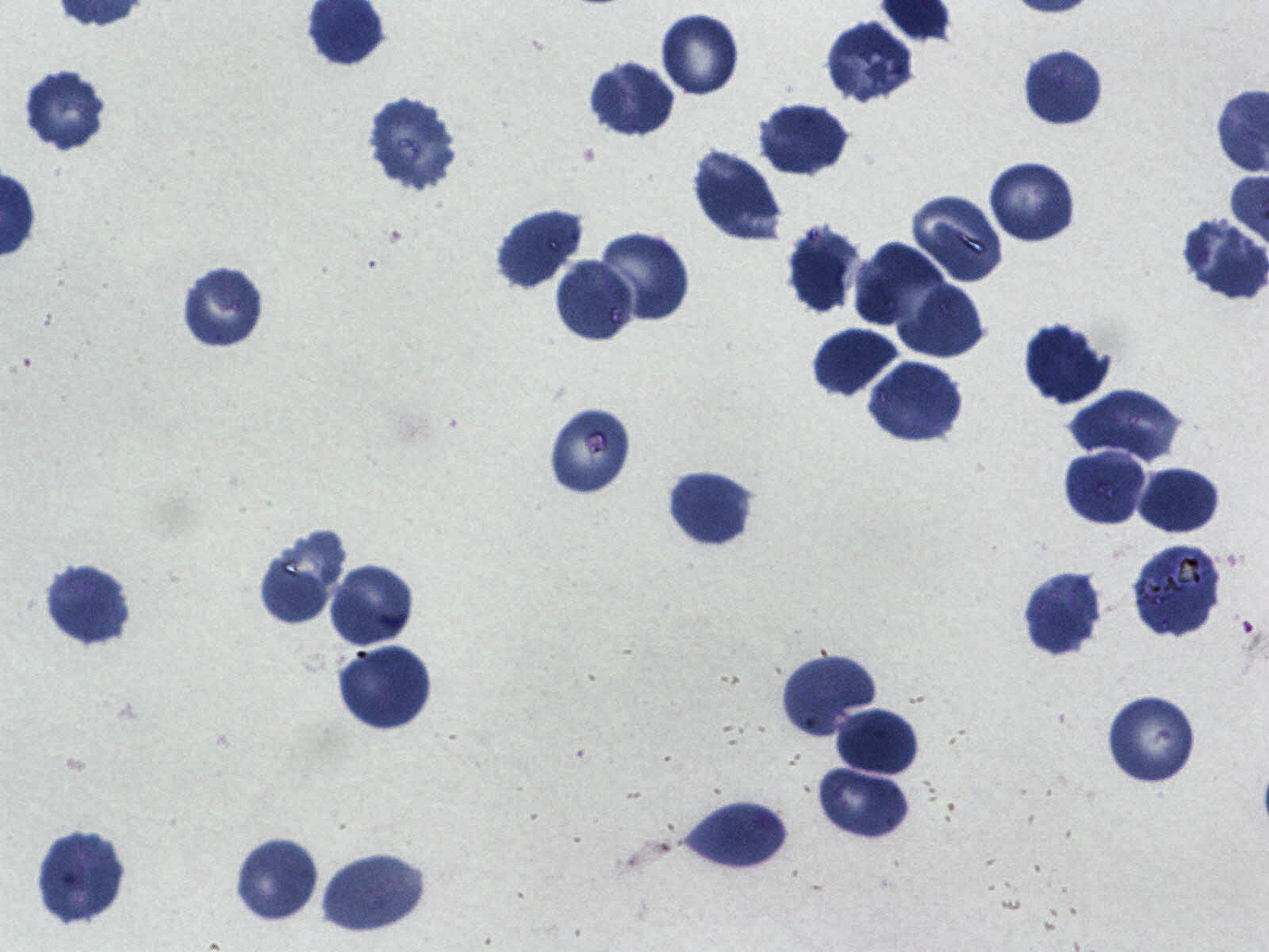Uninfected: (1136, 540, 1225, 641), (691, 148, 784, 244), (319, 851, 426, 934), (596, 230, 692, 322), (36, 827, 126, 925), (336, 643, 433, 733), (780, 651, 878, 739), (1070, 388, 1185, 462), (1107, 693, 1199, 785), (913, 195, 1006, 286), (259, 529, 345, 627), (366, 98, 457, 190), (678, 799, 790, 873), (856, 240, 945, 333), (867, 359, 962, 446), (814, 761, 911, 843), (987, 159, 1078, 246), (497, 205, 588, 292), (235, 835, 322, 924), (825, 19, 916, 104), (328, 562, 415, 650), (550, 406, 632, 498), (44, 562, 131, 647), (666, 467, 754, 551), (24, 65, 108, 153), (1184, 216, 1269, 301), (661, 9, 742, 98), (1026, 321, 1109, 407), (1023, 569, 1103, 658), (788, 221, 864, 313), (184, 264, 265, 350), (554, 259, 635, 344), (590, 61, 677, 140), (760, 100, 849, 177), (1063, 447, 1148, 527), (1134, 461, 1221, 539), (814, 325, 905, 399), (831, 704, 920, 779), (1025, 48, 1105, 128), (893, 284, 981, 356)
